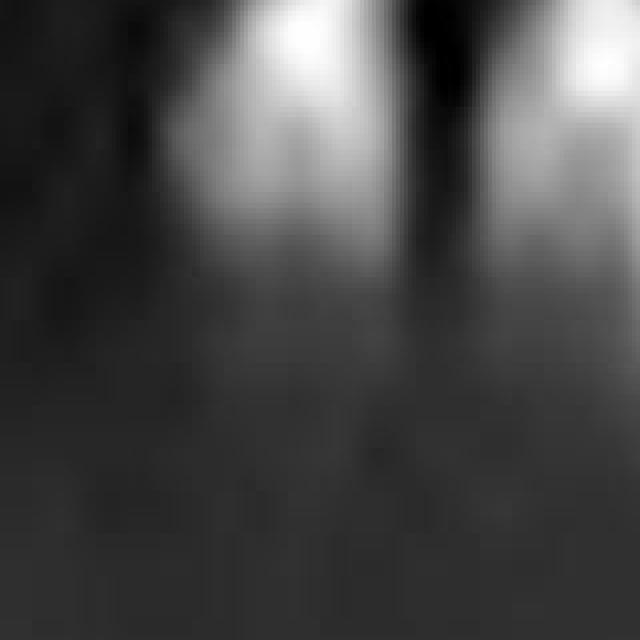person: (165, 1, 449, 390), (481, 1, 640, 465)
